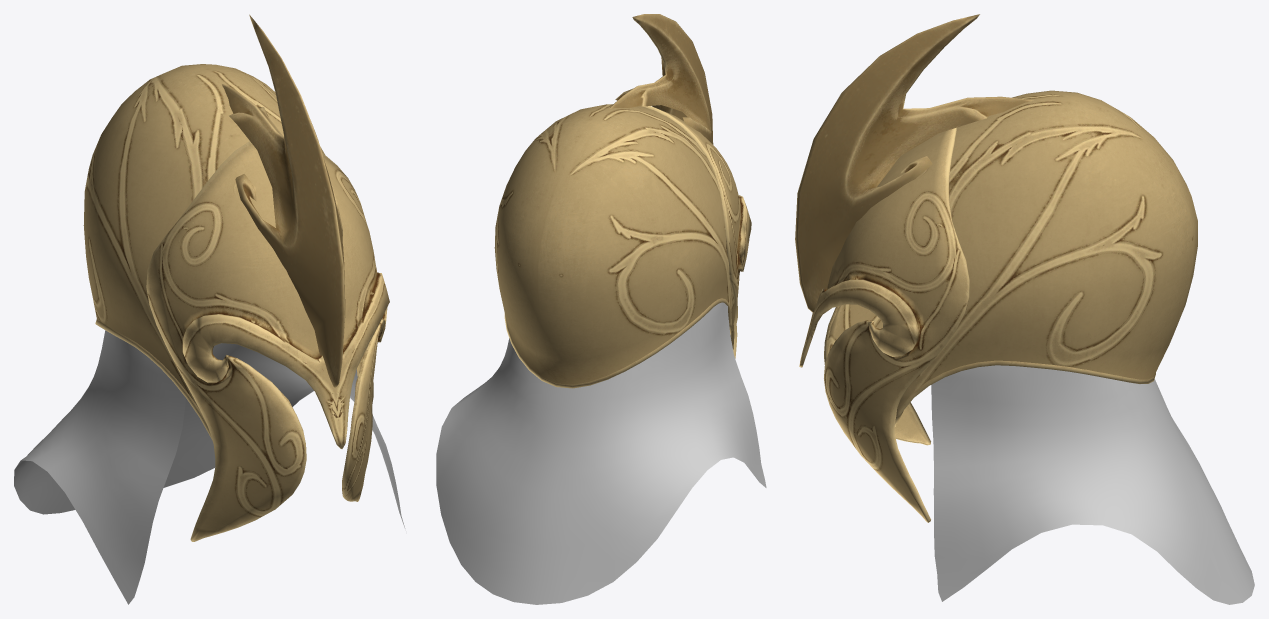
File: rivendell_helmet_cavalry_tier2.fbx
The picture shows the model from 3 angles, left to right: view 1: azimuth 30°, elevation 25°; view 2: azimuth 150°, elevation 25°; view 3: azimuth 270°, elevation 25°; orthographic projection. The views are drawn at different scales.
Parts seen in each view (by area): view 1: rivendell_helmet_cavalry_tier2.1, rivendell_helmet_cavalry_tier2.2, rivendell_helmet_cavalry_tier2.0; view 2: rivendell_helmet_cavalry_tier2.2, rivendell_helmet_cavalry_tier2.1, rivendell_helmet_cavalry_tier2.0; view 3: rivendell_helmet_cavalry_tier2.1, rivendell_helmet_cavalry_tier2.2, rivendell_helmet_cavalry_tier2.0.
Part boxes in pixels (left/top/right/bottom): rivendell_helmet_cavalry_tier2.1: left=83, top=64, right=389, bottom=541; rivendell_helmet_cavalry_tier2.2: left=14, top=330, right=405, bottom=604; rivendell_helmet_cavalry_tier2.0: left=221, top=14, right=345, bottom=387; rivendell_helmet_cavalry_tier2.2: left=436, top=302, right=766, bottom=604; rivendell_helmet_cavalry_tier2.1: left=494, top=104, right=751, bottom=388; rivendell_helmet_cavalry_tier2.0: left=609, top=14, right=713, bottom=144; rivendell_helmet_cavalry_tier2.1: left=799, top=90, right=1197, bottom=522; rivendell_helmet_cavalry_tier2.2: left=931, top=365, right=1254, bottom=604; rivendell_helmet_cavalry_tier2.0: left=795, top=14, right=1033, bottom=312.
Bounding box in the file's own units: 0.259 × 0.3499 × 0.4798.
